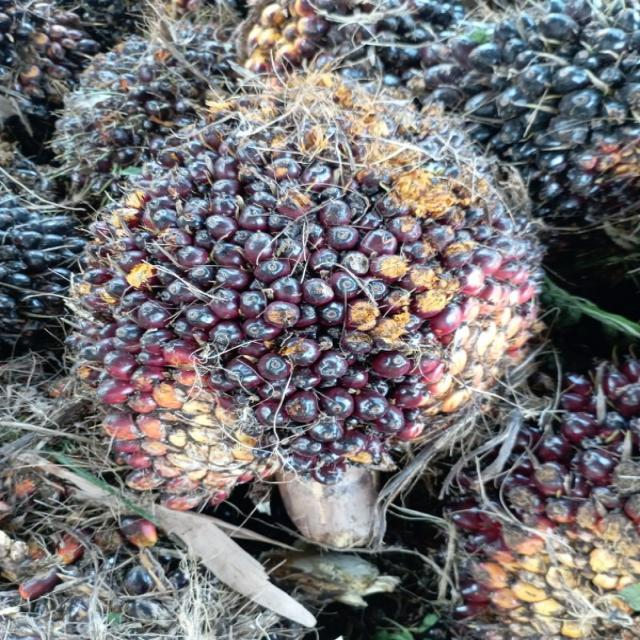fraksi 00: (82, 69, 544, 491), (410, 0, 639, 204)
